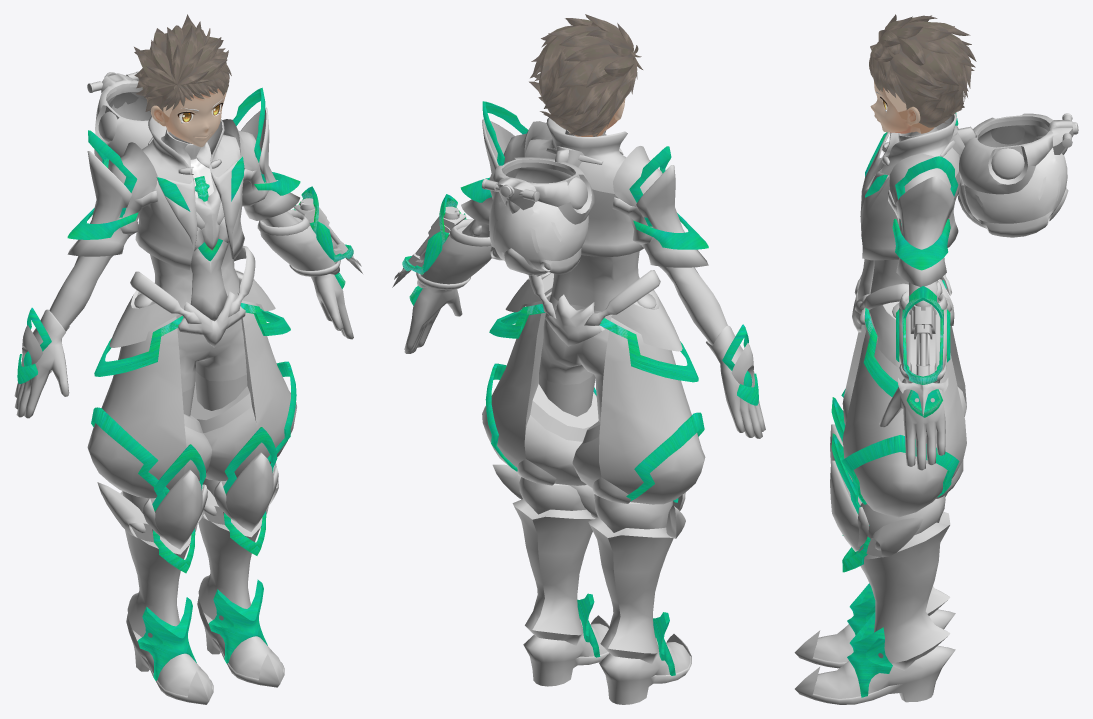
File: AI1-packed.glb
3 renders of one model, left to right at view 1: azimuth 30°, elevation 25°; view 2: azimuth 150°, elevation 25°; view 3: azimuth 270°, elevation 25°, orthographic. The views are drawn at different scales.
Size of the model in its own units: 3.94 by 6.86 by 2.67.
Materials: 7 (4 with a texture image).
